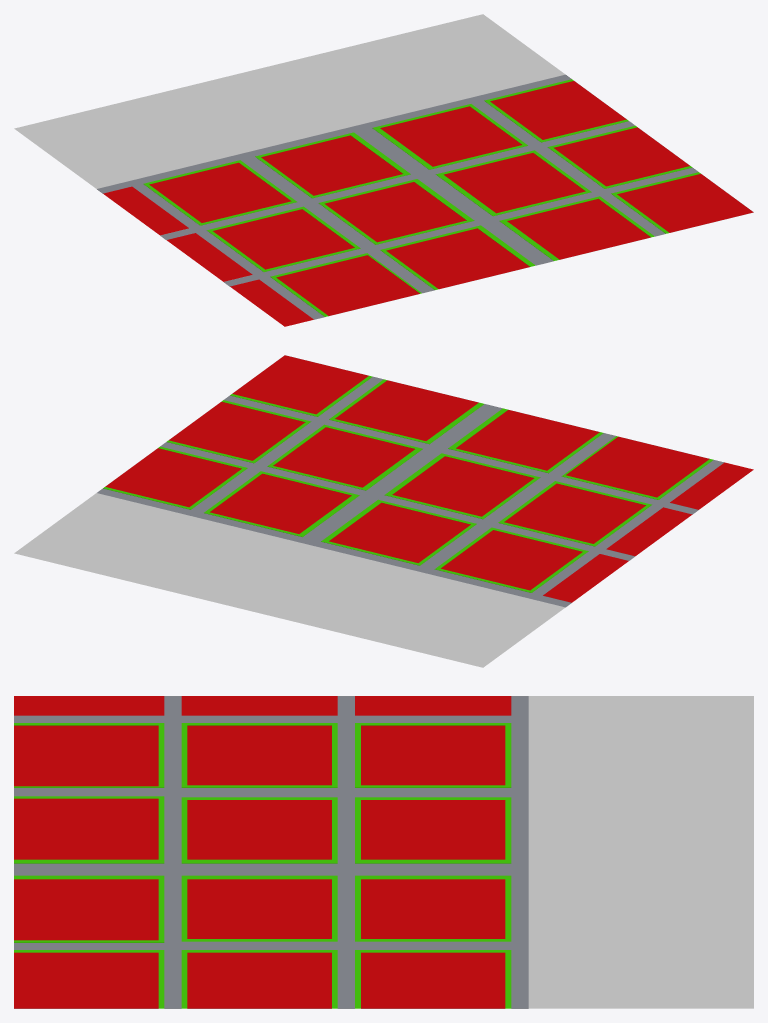
File: cALLES.fbx
3 views of the same model, one above another, from view 1: azimuth 30°, elevation 25°; view 2: azimuth 150°, elevation 25°; view 3: azimuth 270°, elevation 25° (orthographic). The views are drawn at different scales.
Visible parts, largest first — view 1: Plane; view 2: Plane; view 3: Plane.
Part boxes in pixels (left/top/right/bottom): Plane: left=14, top=14, right=753, bottom=326; Plane: left=14, top=355, right=753, bottom=667; Plane: left=14, top=696, right=753, bottom=1008.
Bounding box in the file's own units: 20000 × 6.81 × 20000.
